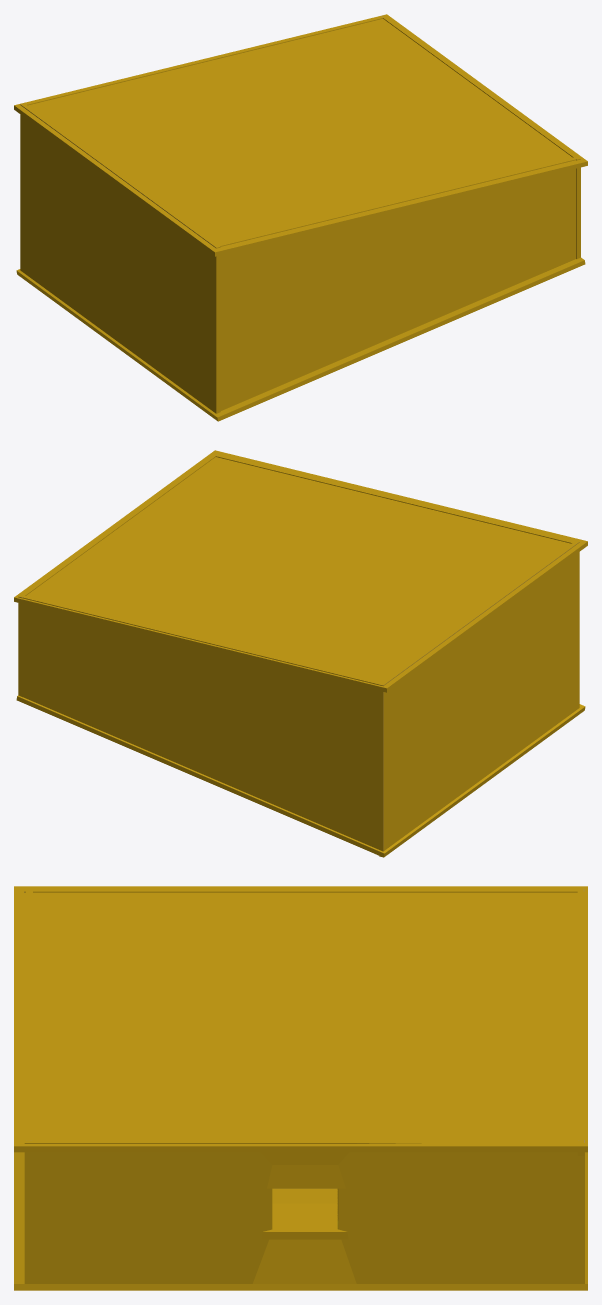
File: fellshift_prestige.glb
3 views of the same model, one above another, from view 1: azimuth 30°, elevation 25°; view 2: azimuth 150°, elevation 25°; view 3: azimuth 270°, elevation 25° (orthographic). The views are drawn at different scales.
Parts seen in each view (by area): view 1: ceiling, left_wall, end, bottom, entry, right_wall; view 2: ceiling, right_wall, end, bottom, entry, left_wall; view 3: ceiling, entry, bottom, stairs1, end, right_wall, left_wall.
Boxes of the visible parts, x1,y1,x2,y2 form: ceiling: [14, 14, 587, 256]; left_wall: [216, 157, 576, 410]; end: [20, 103, 220, 413]; bottom: [16, 257, 585, 421]; entry: [381, 15, 580, 258]; right_wall: [23, 16, 383, 105]; ceiling: [14, 450, 587, 692]; right_wall: [22, 596, 383, 856]; end: [379, 541, 579, 856]; bottom: [16, 695, 585, 857]; entry: [18, 453, 218, 696]; left_wall: [215, 454, 576, 543]; ceiling: [14, 886, 587, 1152]; entry: [24, 1140, 584, 1283]; bottom: [14, 1152, 587, 1290]; stairs1: [261, 1188, 348, 1239]; end: [24, 888, 584, 892]; right_wall: [577, 889, 584, 1155]; left_wall: [26, 890, 32, 1140].
Bounding box in the file's own units: 180 × 79.3 × 168.
Materials: 1 (1 with a texture image).
